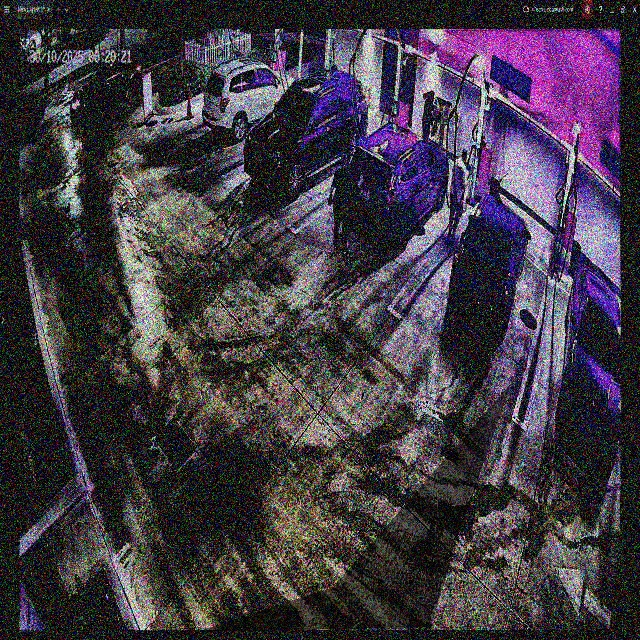Car: (245, 71, 369, 198), (345, 125, 450, 249), (446, 196, 530, 337), (203, 54, 297, 146)
